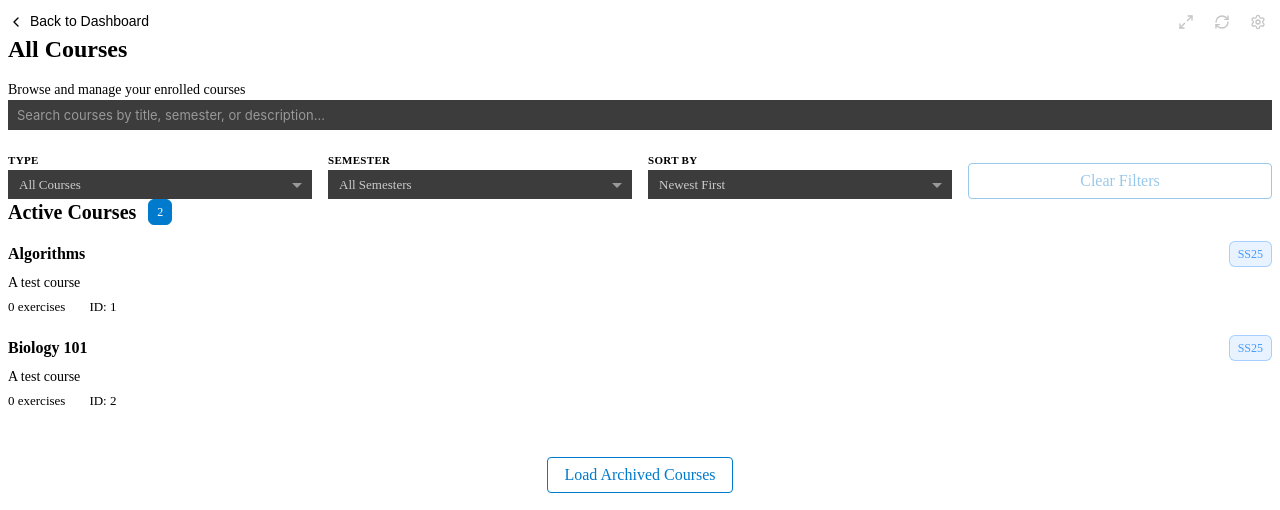
Test: CourseListView › filters courses by search term
The width and height of the screenshot is (1280, 510).
Expected: the text "Algorithms" is shown, left=8, top=245, right=85, bottom=262
Type "algo" into the search field with placeholder "Search courses by title, semester, or description...". click: {"x": 640, "y": 115}
box: left=8, top=100, right=1272, bottom=130
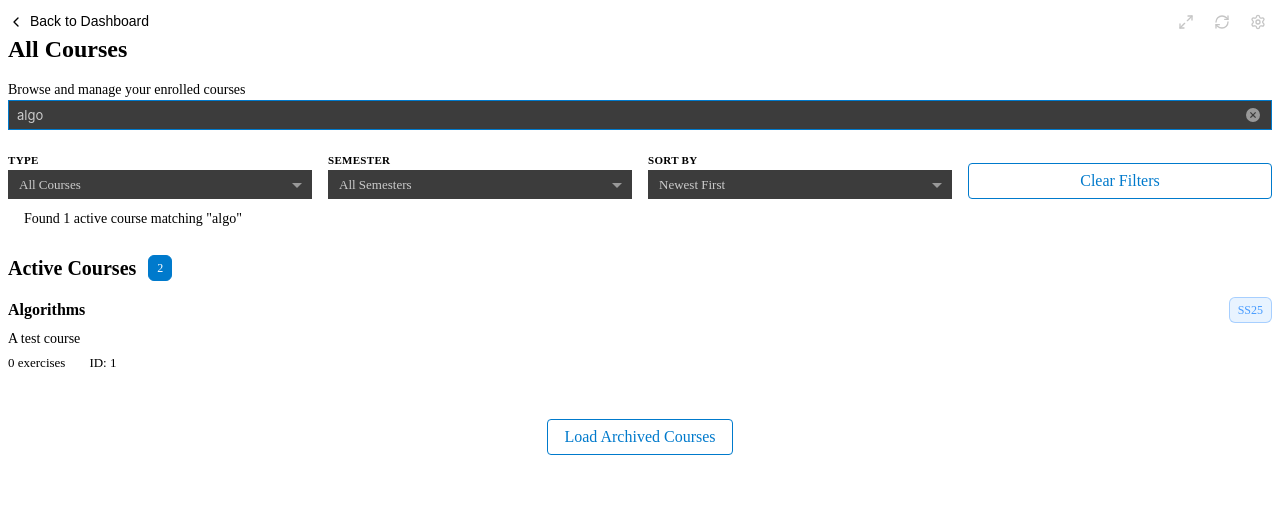
Expected: the text "Algorithms" is shown, left=8, top=301, right=85, bottom=318
Expected: the button "Biology 101" is gone
